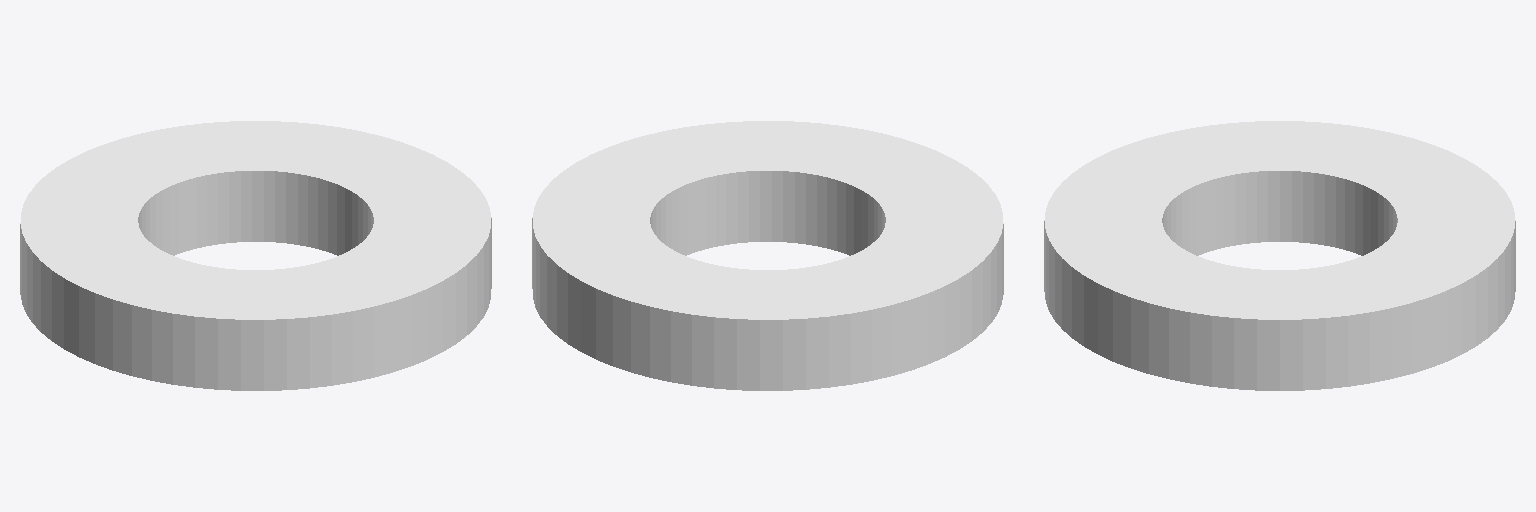
The robot description file, URDF, robot "disk0.urdf":
<?xml version="0.0" ?>
<robot name="disk0.urdf">
  <link name="baseLink">
    <contact>
      <lateral_friction value="1.0"/>
      <rolling_friction value="0.0001"/>
      <inertia_scaling value="3.0"/>
    </contact>
    <inertial>
      <origin rpy="0 0 0" xyz="0 0 0"/>
       <mass value=".1"/>
       <inertia ixx="1" ixy="0" ixz="0" iyy="1" iyz="0" izz="1"/>
    </inertial>
    <visual>
      <origin rpy="0 0 0" xyz="0 0 0"/>
      <geometry>
         <mesh filename="disk0.obj" scale="0.001 0.001 0.001"/>
      </geometry>
      <material name="dummy">
        <color rgba="1 1 1 1"/>
      </material>
    </visual>
    <collision>
      <origin rpy="0 0 0" xyz="0 0 0"/>
      <geometry>
	 	    <mesh filename="disk0_deprecated.obj" scale="0.001 0.001 0.001"/>
      </geometry>
    </collision>
  </link>
</robot>

--- Facts derived from the render (not from the file) ---
The picture shows the robot from 3 angles, left to right: view 1: azimuth 30°, elevation 25°; view 2: azimuth 150°, elevation 25°; view 3: azimuth 270°, elevation 25°; orthographic projection.
Robot: disk0.urdf — 1 links, 0 joints (none); root link baseLink; default pose: every joint at zero.
Links seen in each view (by area): view 1: baseLink; view 2: baseLink; view 3: baseLink.
Link boxes in pixels (x1,y1,x2,y2): baseLink: (20, 121, 491, 390); baseLink: (532, 121, 1003, 390); baseLink: (1044, 121, 1515, 390).
Bounding box of the posed robot: 0.06 × 0.06 × 0.01 m (x, y, z).
1 mesh visuals loaded from 1 distinct referenced files (1 OBJ).